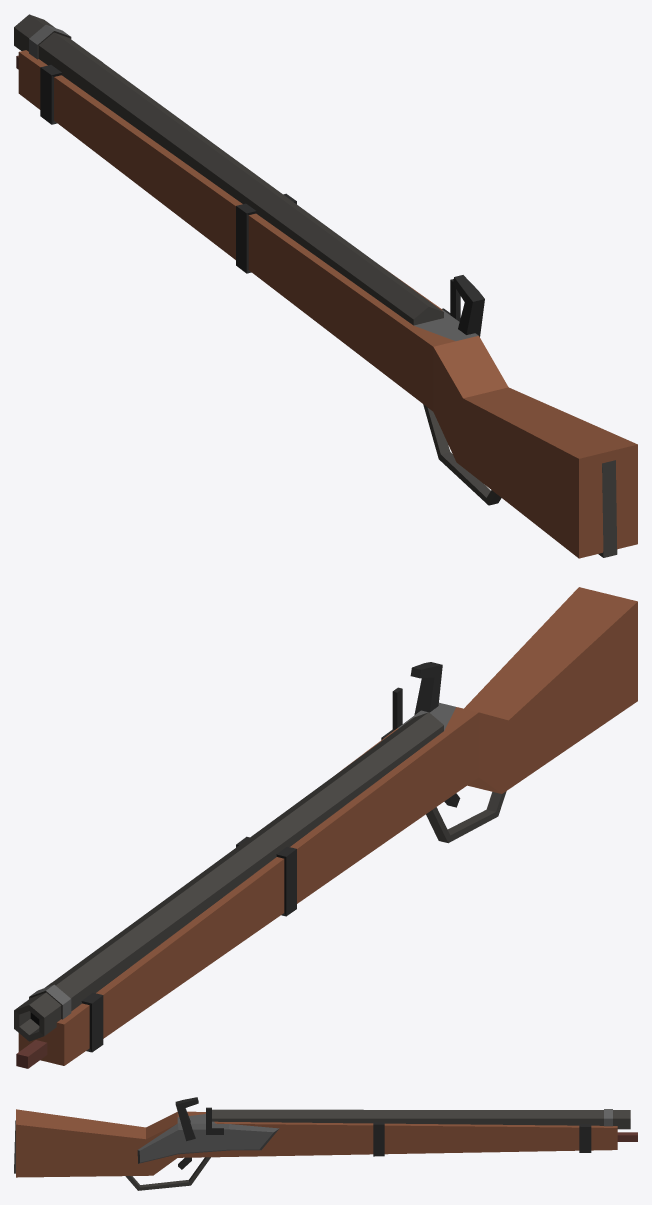
Rendered from gun.fbx.
The picture shows the model from 3 angles, top to bottom: view 1: azimuth 30°, elevation 25°; view 2: azimuth 150°, elevation 25°; view 3: azimuth 270°, elevation 25°; orthographic projection. The views are drawn at different scales.
Visible parts, largest first — view 1: gun.001, muzzle; view 2: gun.001, muzzle; view 3: gun.001, muzzle.
Part boxes in pixels (x1,y1,x2,y2): gun.001: (16,50,637,558); muzzle: (14,14,443,325); gun.001: (16,587,637,1068); muzzle: (14,712,443,1041); gun.001: (14,1097,637,1190); muzzle: (212,1109,630,1129).
Size of the model in its own units: 11.26 by 32.35 by 189.
